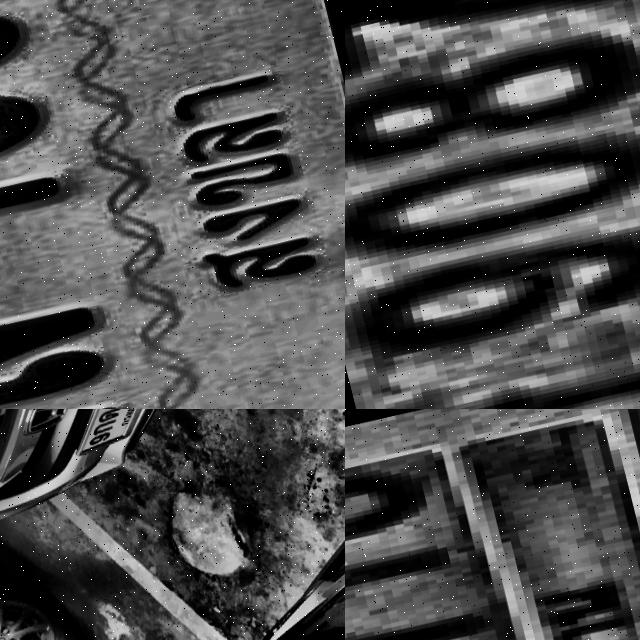license-plate: (0, 0, 345, 409), (345, 0, 640, 409), (345, 409, 640, 640), (50, 409, 195, 457)
